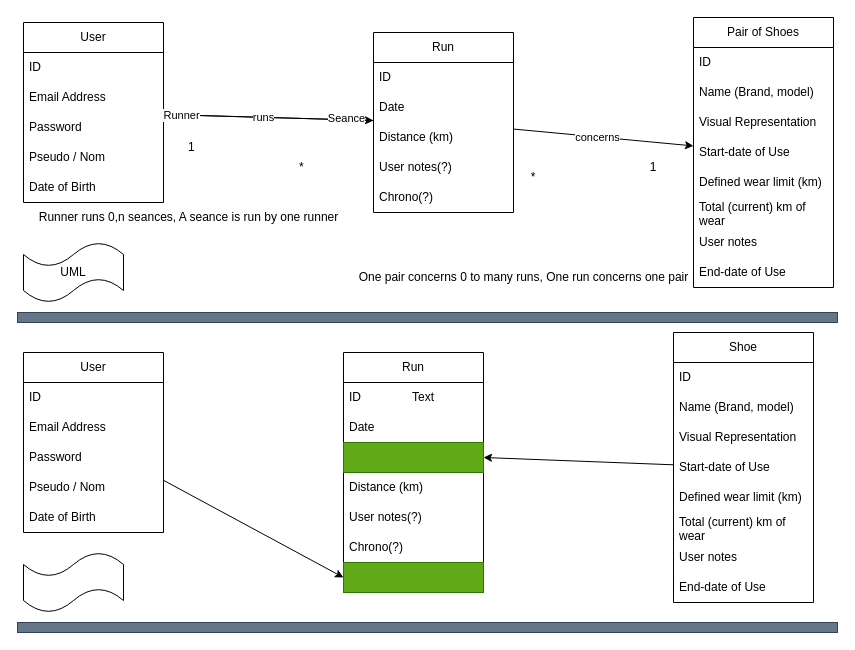
Some shapes in this 855 by 650 pixel diagram are drawn without their labels. The centre of each missing label's shape, as x and y in pixels:
Shoe ID: [413,457]
User ID: [413,577]
